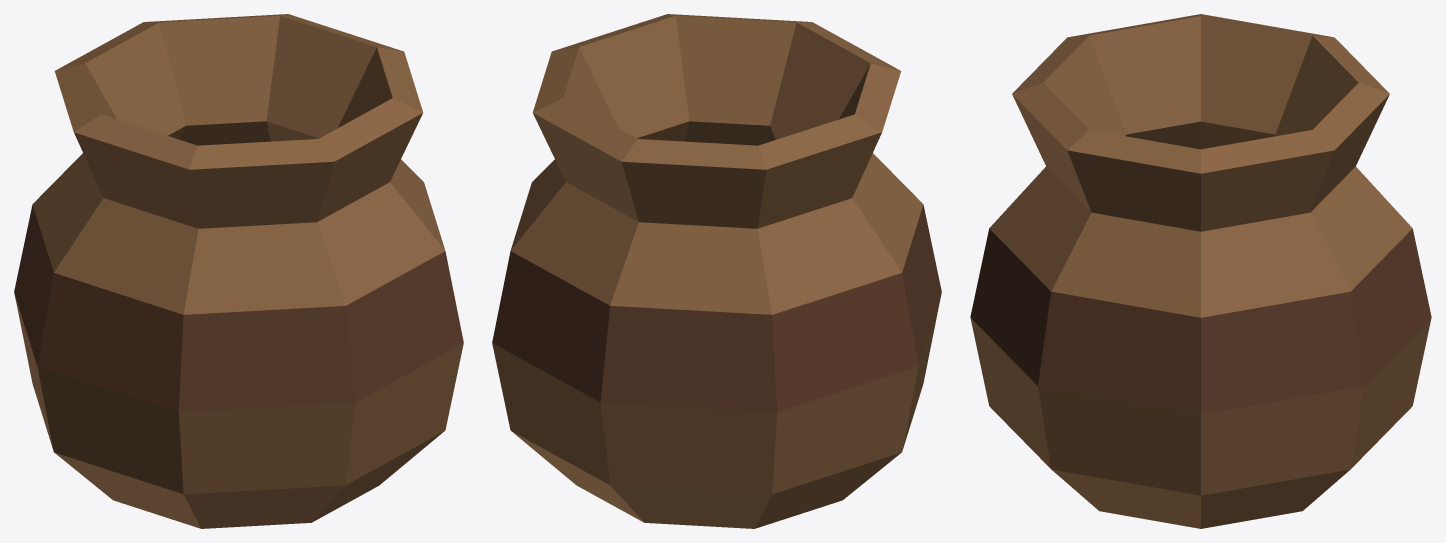
Rendered from Pot_Large.gltf.
The picture shows the model from 3 angles, left to right: view 1: azimuth 30°, elevation 25°; view 2: azimuth 150°, elevation 25°; view 3: azimuth 270°, elevation 25°; orthographic projection.
Parts seen in each view (by area): view 1: Pot_Large2; view 2: Pot_Large2; view 3: Pot_Large2.
Boxes of the visible parts, <box> form: Pot_Large2: <box>14,14,463,528</box>; Pot_Large2: <box>492,14,941,528</box>; Pot_Large2: <box>970,14,1431,528</box>.
Bounding box in the file's own units: 0.1478 × 0.1363 × 0.1478.
Materials: 1 (1 with a texture image).
